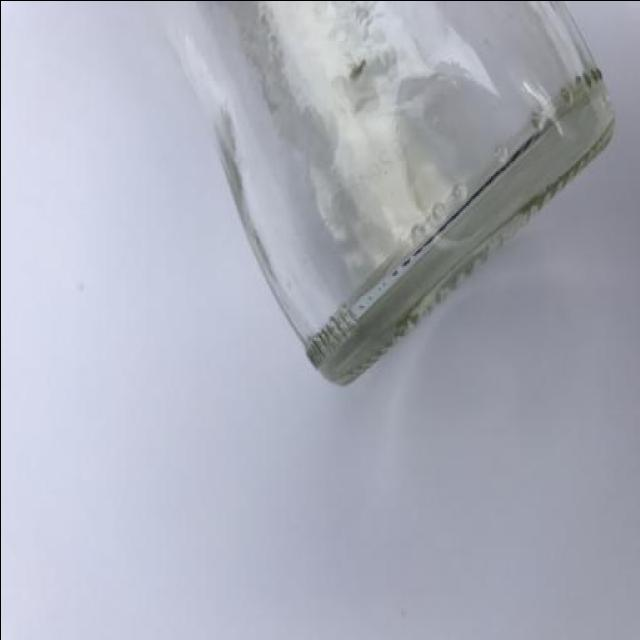glass: (155, 0, 613, 382)
